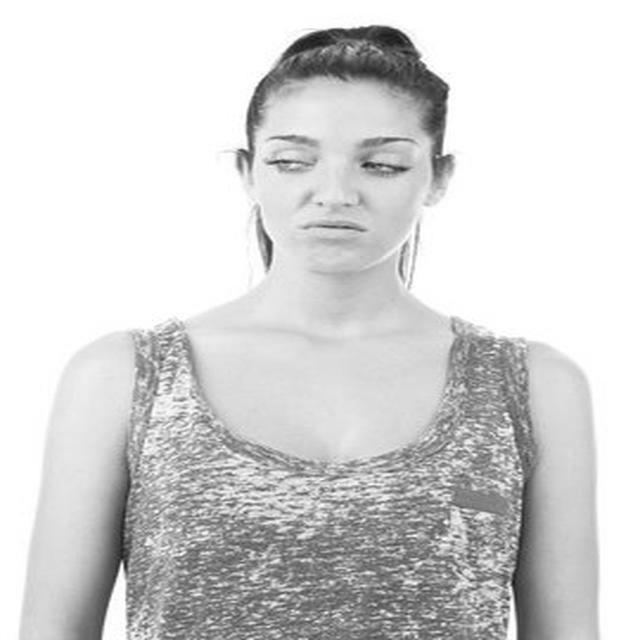Disgust: (253, 78, 433, 279)
